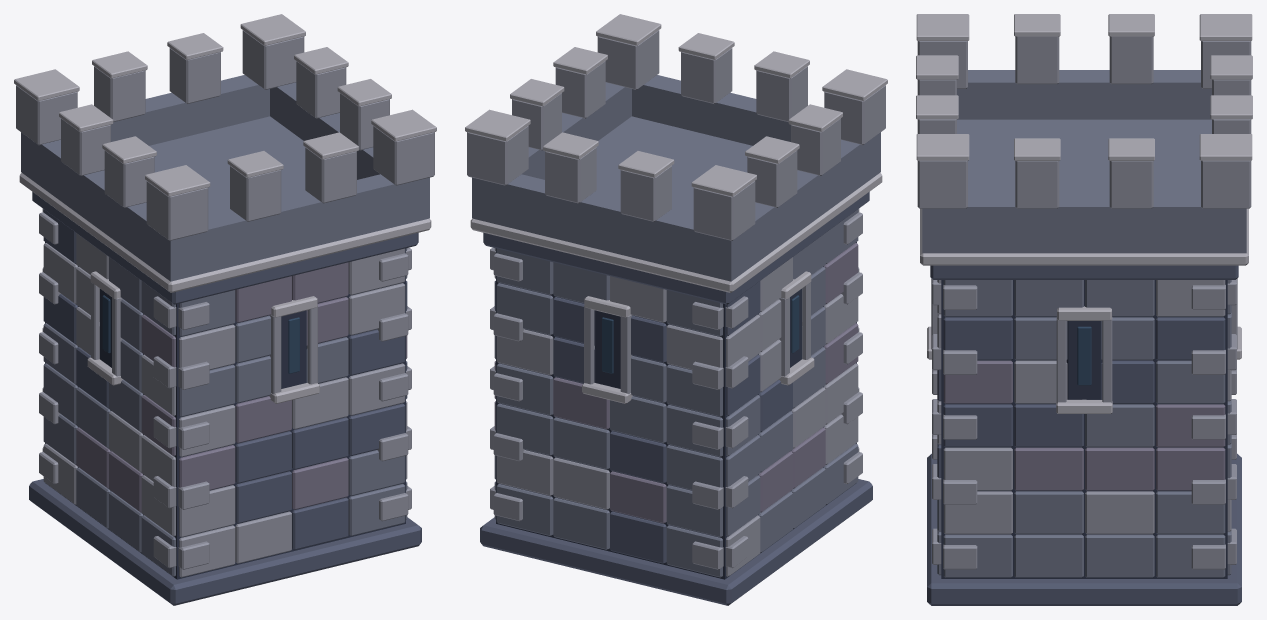
The model's file is EG_Torre_6m.fbx.
3 views of the same model, side by side, from view 1: azimuth 30°, elevation 25°; view 2: azimuth 150°, elevation 25°; view 3: azimuth 270°, elevation 25° (orthographic). The views are drawn at different scales.
Visible parts, largest first — view 1: EG_Torre_6m; view 2: EG_Torre_6m; view 3: EG_Torre_6m.
Boxes of the visible parts, x1=… form: EG_Torre_6m: x1=14, y1=14, x2=436, y2=605; EG_Torre_6m: x1=465, y1=14, x2=887, y2=605; EG_Torre_6m: x1=916, y1=14, x2=1252, y2=605.
Size of the model in its own units: 4.28 by 6.4 by 4.28.
Materials: 1 (1 with a texture image).
